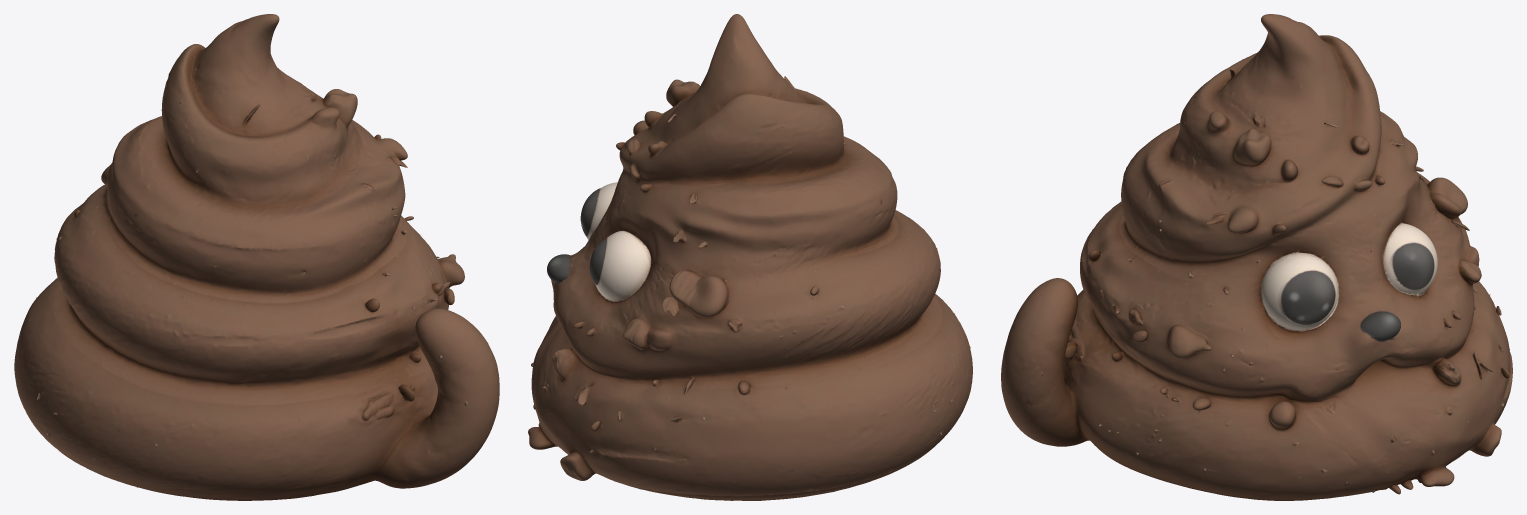
File: poopmodel_lowpoly.fbx
3 renders of one model, left to right at view 1: azimuth 30°, elevation 25°; view 2: azimuth 150°, elevation 25°; view 3: azimuth 270°, elevation 25°, orthographic. The views are drawn at different scales.
Visible parts, largest first — view 1: tripo_node_24e2ec38; view 2: tripo_node_24e2ec38; view 3: tripo_node_24e2ec38.
Part boxes in pixels (x1,y1,x2,y2): tripo_node_24e2ec38: (14, 14, 499, 500); tripo_node_24e2ec38: (528, 14, 972, 500); tripo_node_24e2ec38: (1001, 14, 1512, 500).
Size of the model in its own units: 82.96 by 82.85 by 91.9.
